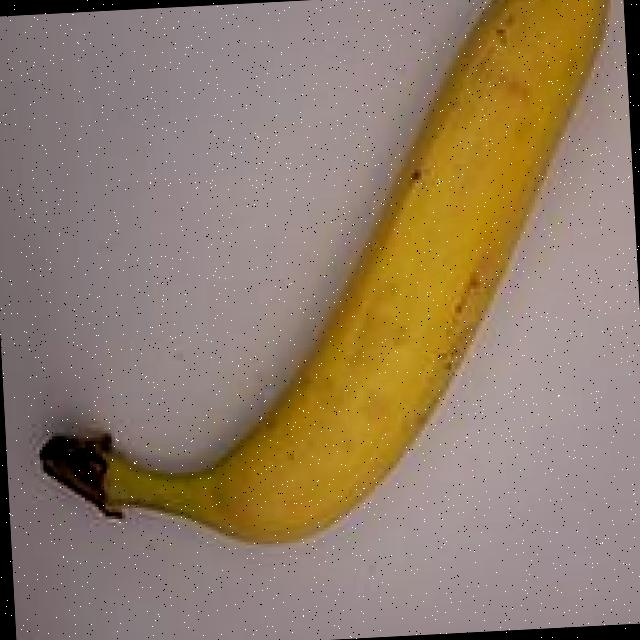Ripe: (9, 0, 640, 582)
